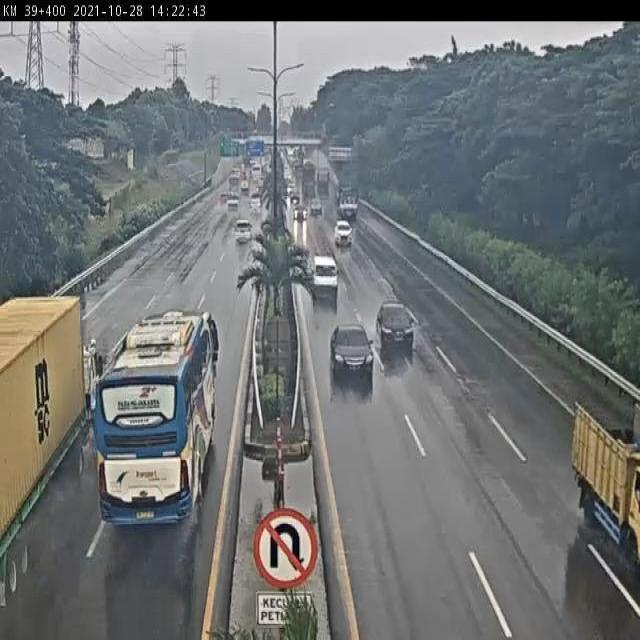bus-l-: (93, 310, 221, 522)
truck-xl-: (0, 295, 103, 601)
